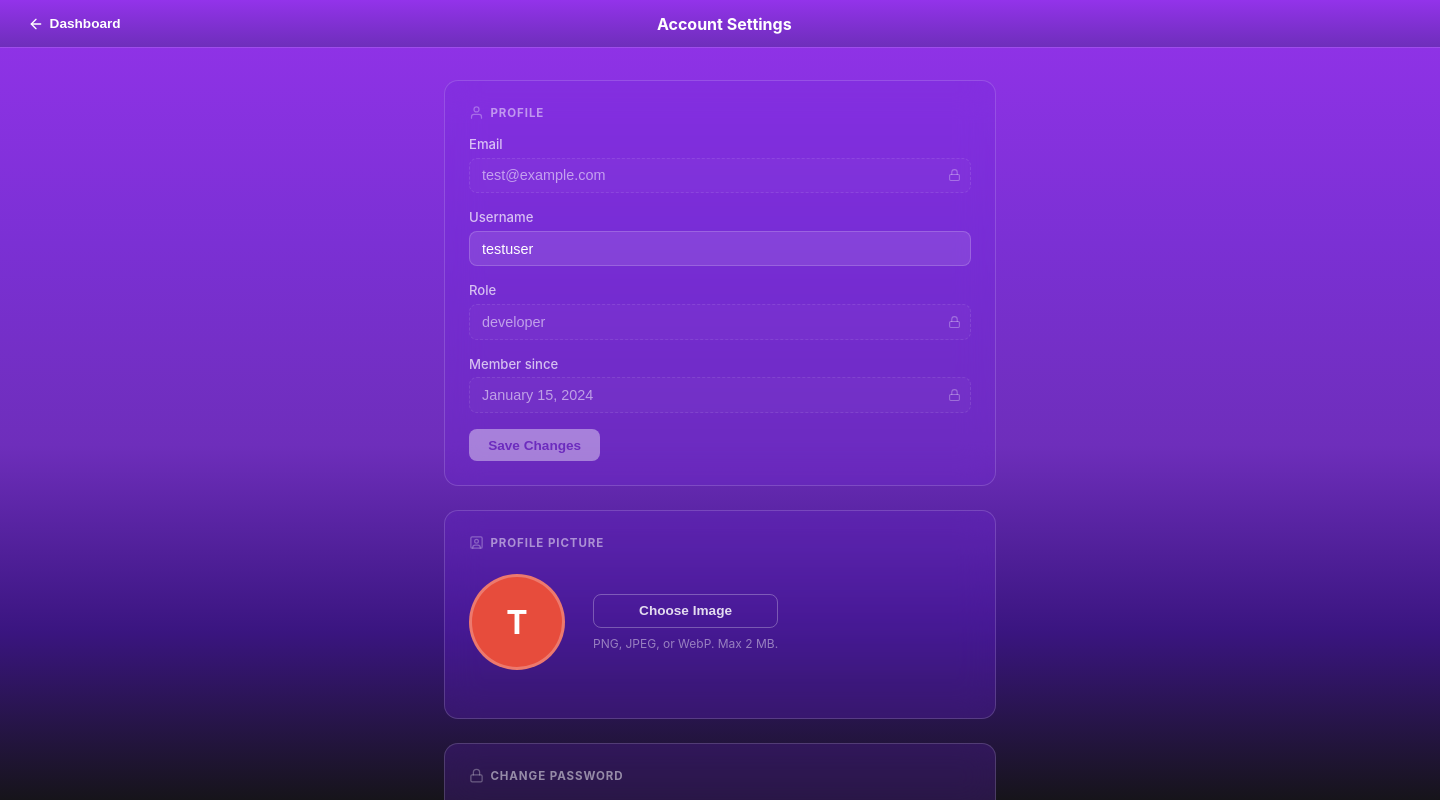
Test: AccountPage › shows validation error when username is too short
Replace the text in the field showing "testuser" with "ab" at (720, 249), box x1=469 y1=231 x2=971 y2=266
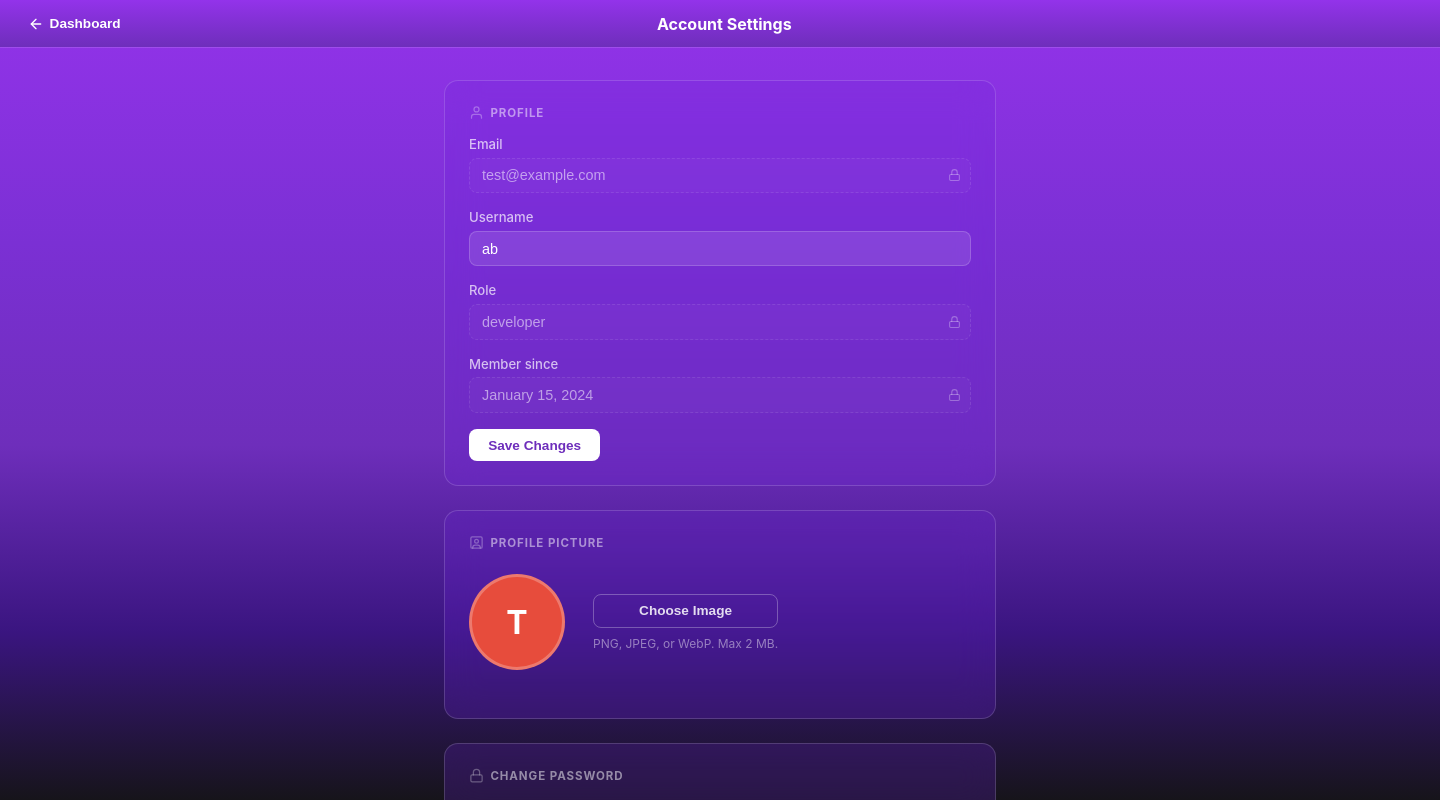
Click the button "Save Changes" at (535, 445), box x1=469 y1=429 x2=600 y2=461
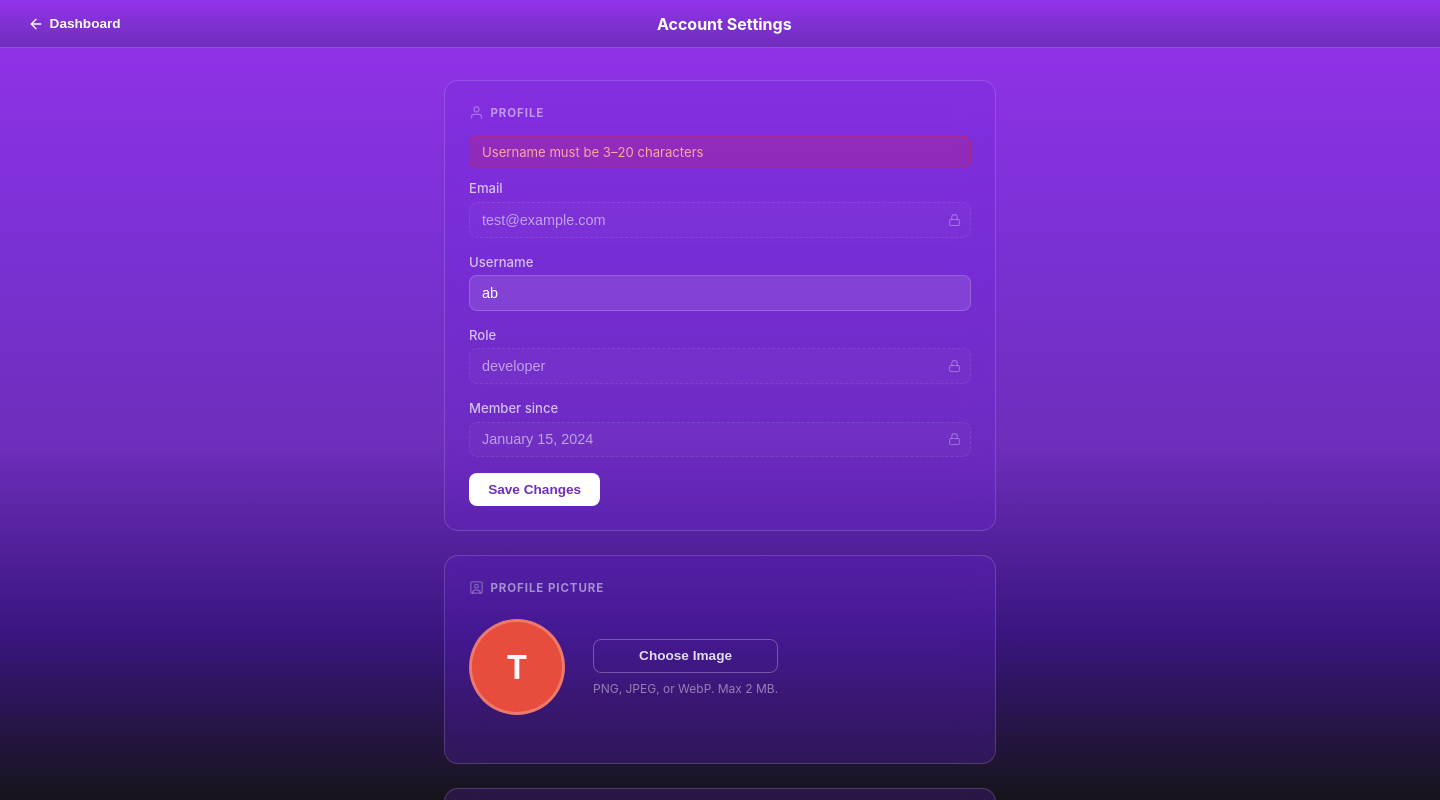
Check: the text "Username must be 3–20 characters" is shown, box x1=469 y1=136 x2=971 y2=168
